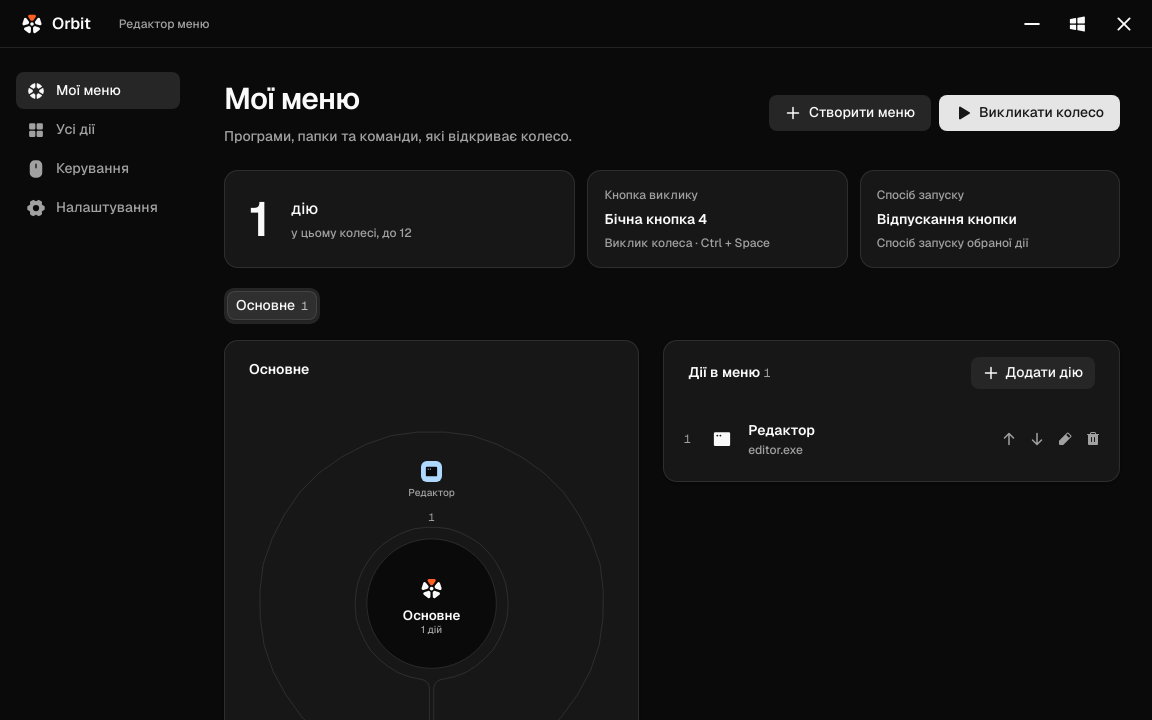
it: React editor shell and native events › tells the user when the installed-app list cannot be read instead of reporting no results
The image size is (1152, 720).
Click the button "Додати дію". click: coordinates (1033, 372)
box: [971,356,1095,388]
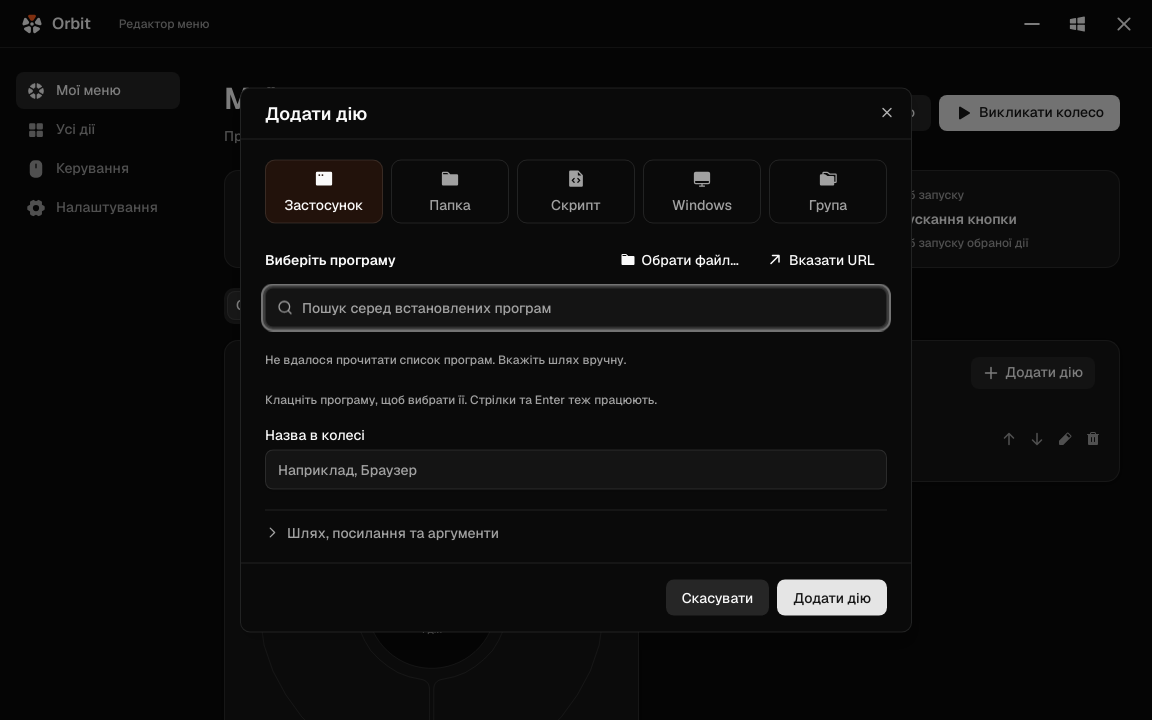
Expected: the list with id "installed-apps" shows "Не вдалося прочитати список програм", [265,352,626,368]
